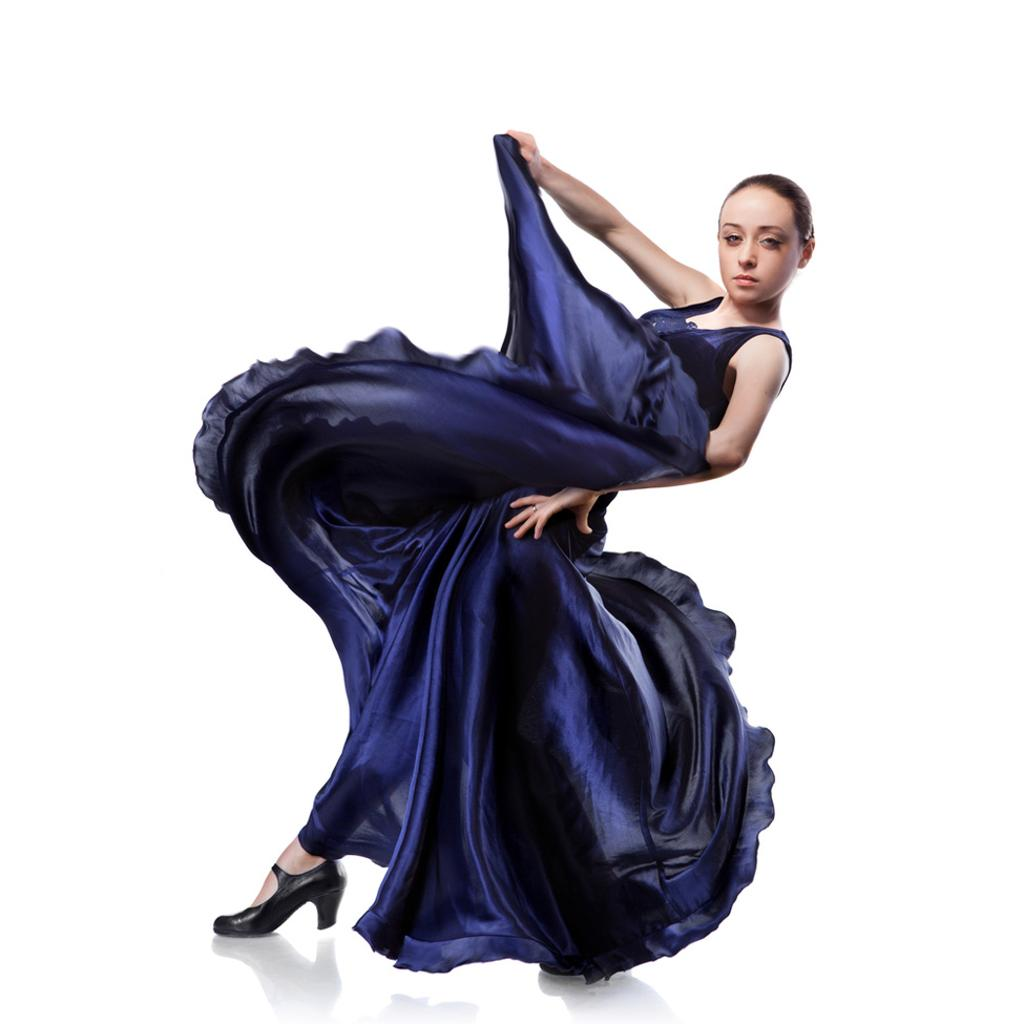face: (724, 182, 798, 304)
